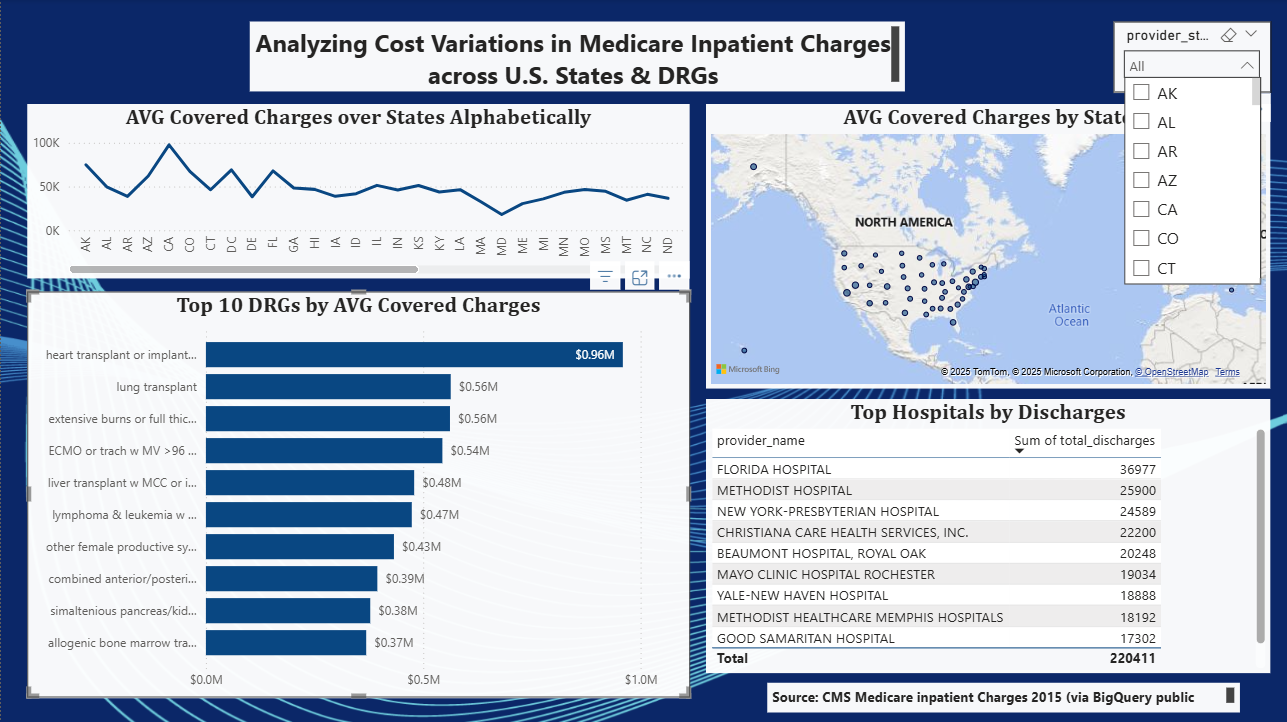

Layout of this report page (visuals, bound fields, positions):
{"tool":"powerbi","page":{"name":"Page 1","canvas":[1280,720],"ordinal":0},"visuals":[{"type":"clusteredBarChart","title":"Top 10 DRGs by AVG Covered Charges","fields":{"Category":["first query.drg_definition"],"Y":["Sum(first query.avg_covered_charges)"]},"box":[25.8,291.1,659.5,404.4],"z":0},{"type":"map","title":"AVG Covered Charges by State","fields":{"Category":["second query.provider_state"],"Size":["Sum(second query.avg_covered_charges)"]},"box":[702,104.3,561.6,283.4],"z":1000},{"type":"lineChart","title":"AVG Covered Charges over States Alphabetically","fields":{"Category":["second query.provider_state"],"Y":["Sum(second query.avg_covered_charges)"]},"box":[25.8,104.3,659.5,173.9],"z":2000},{"type":"tableEx","title":"Top Hospitals by Discharges","fields":{"Values":["third query.provider_name","Sum(third query.total_discharges)"]},"box":[702,398,561.6,273.1],"z":3000},{"type":"slicer","fields":{"Values":["second query.provider_state"]},"box":[1107.7,21.9,155.8,70.8],"z":4000},{"type":"textbox","box":[247.3,21.9,651.7,69.6],"z":5000},{"type":"textbox","box":[762.5,680.1,470.1,29.6],"z":6000}]}

Visuals, with their boxes in screenshot pixels (x1, y1, x2, y2):
"Top 10 DRGs by AVG Covered Charges" clusteredBarChart: <bbox>36, 287, 686, 686</bbox>
"AVG Covered Charges by State" map: <bbox>703, 103, 1257, 383</bbox>
"AVG Covered Charges over States Alphabetically" lineChart: <bbox>36, 103, 686, 275</bbox>
"Top Hospitals by Discharges" tableEx: <bbox>703, 393, 1257, 662</bbox>
slicer - second query.provider_state: <bbox>1103, 22, 1257, 91</bbox>
textbox: <bbox>254, 22, 897, 90</bbox>
textbox: <bbox>763, 671, 1227, 700</bbox>
